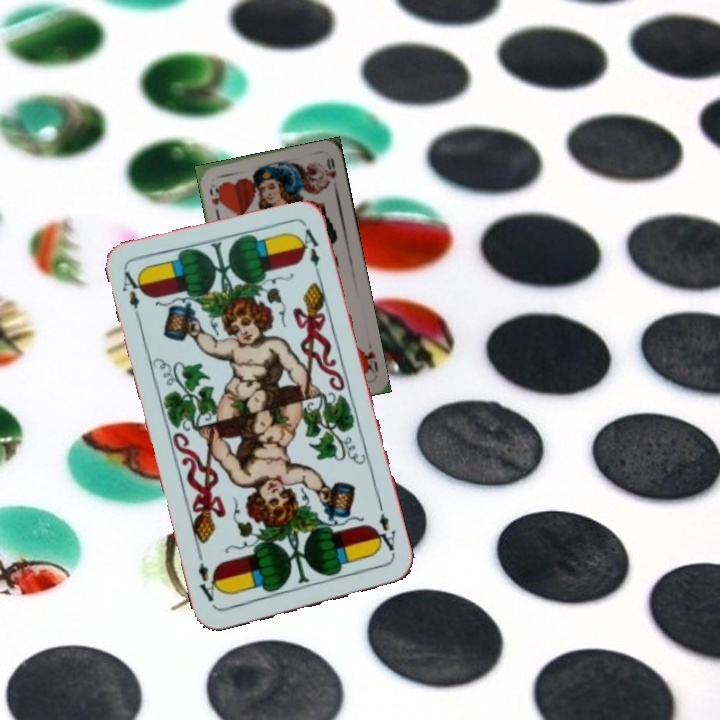EA: (369, 501, 399, 559), (117, 267, 147, 325)
HO: (358, 338, 381, 376), (205, 182, 225, 218)
